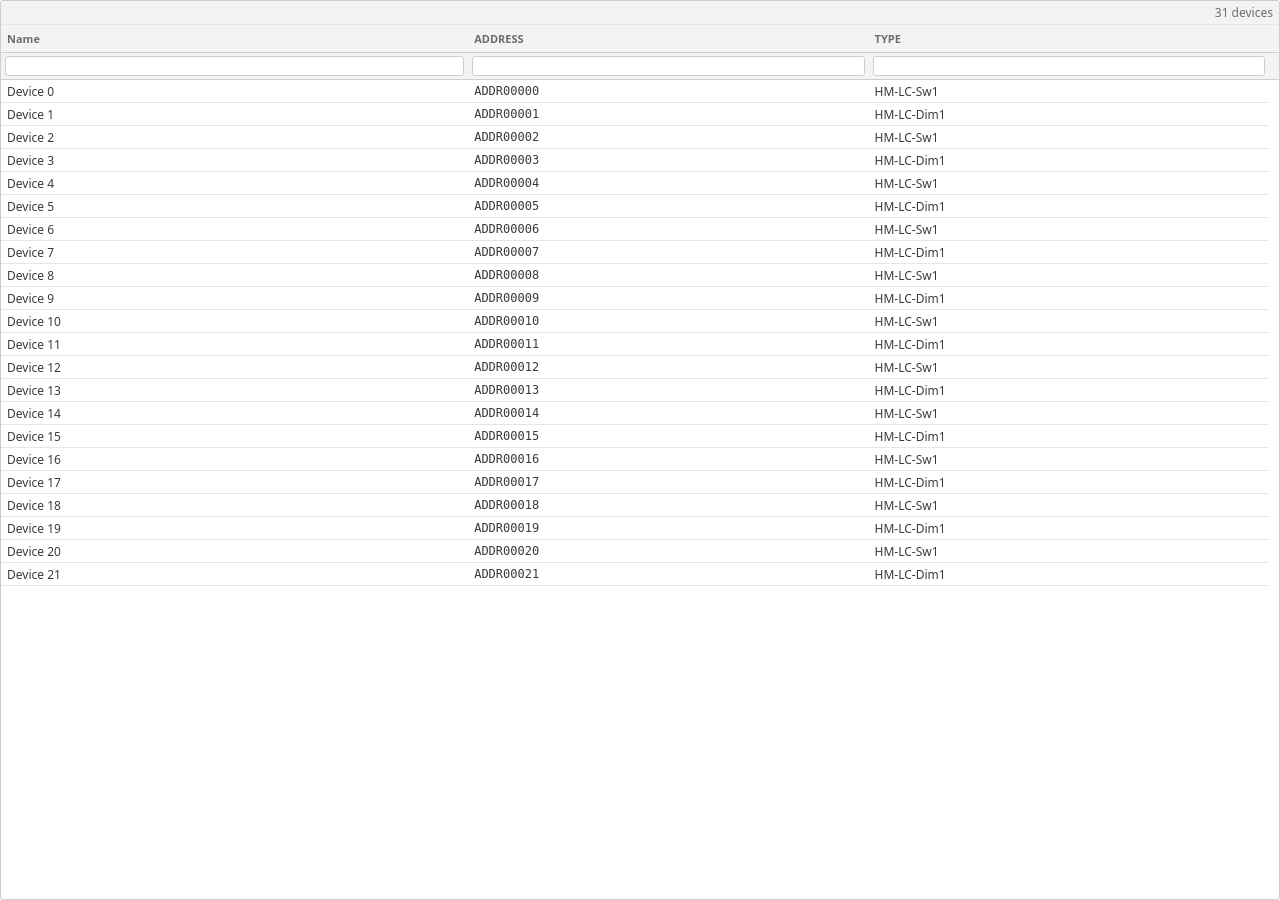
Scenario: filters and the scope (BUGS.md B-1) › says how many rows the filter leaves and offers to clear it when it leaves none
This screenshot has width=1280, height=900.
Expected: the text with test id "grid-count" reads "31 devices", x1=1215 y1=4 x2=1273 y2=21
Type "ADDR0000" into the search field named "Filter: ADDRESS" at (668, 66), box x1=472 y1=56 x2=865 y2=76
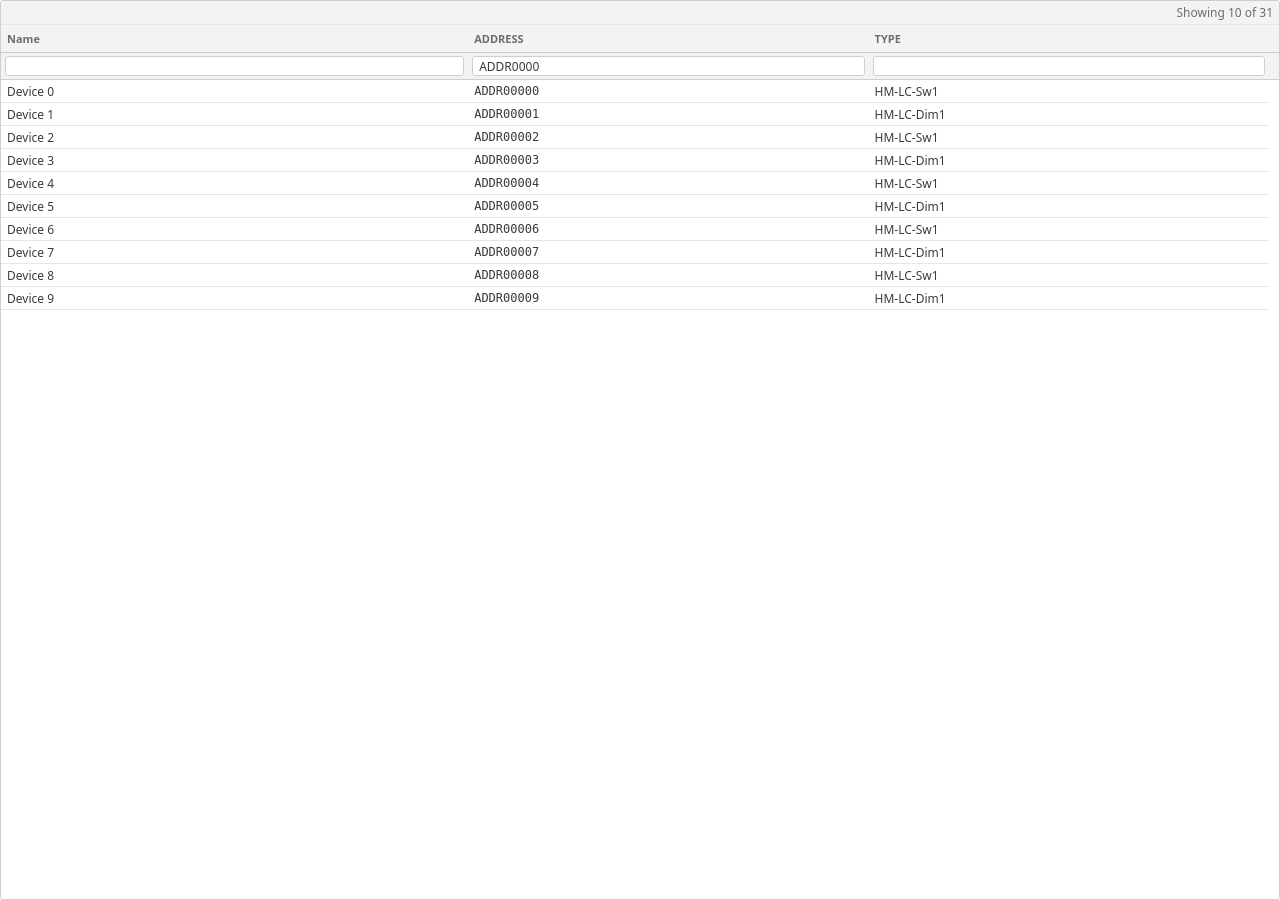
Result: the text with test id "grid-count" reads "Showing 10 of 31" at x1=1176 y1=4 x2=1273 y2=21
Replace the text in the search field named "Filter: ADDRESS" with "LEQ" at (668, 66), box x1=472 y1=56 x2=865 y2=76
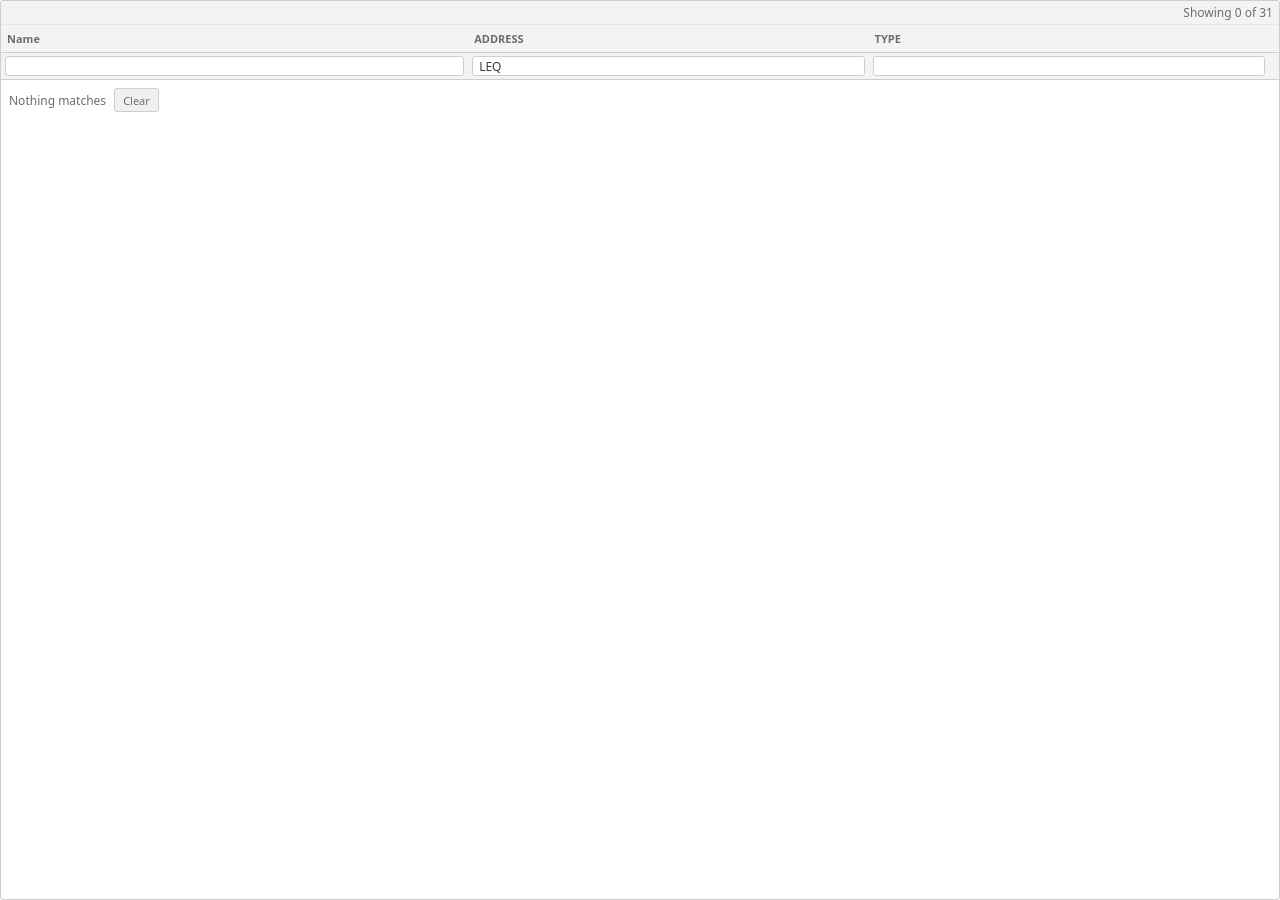
Result: the text with test id "grid-count" reads "Showing 0 of 31" at x1=1183 y1=4 x2=1273 y2=21
Result: the text "Nothing matches" is shown at x1=9 y1=92 x2=106 y2=108
Click the button with test id "grid-clear-filter" at (136, 100), box x1=114 y1=88 x2=159 y2=112
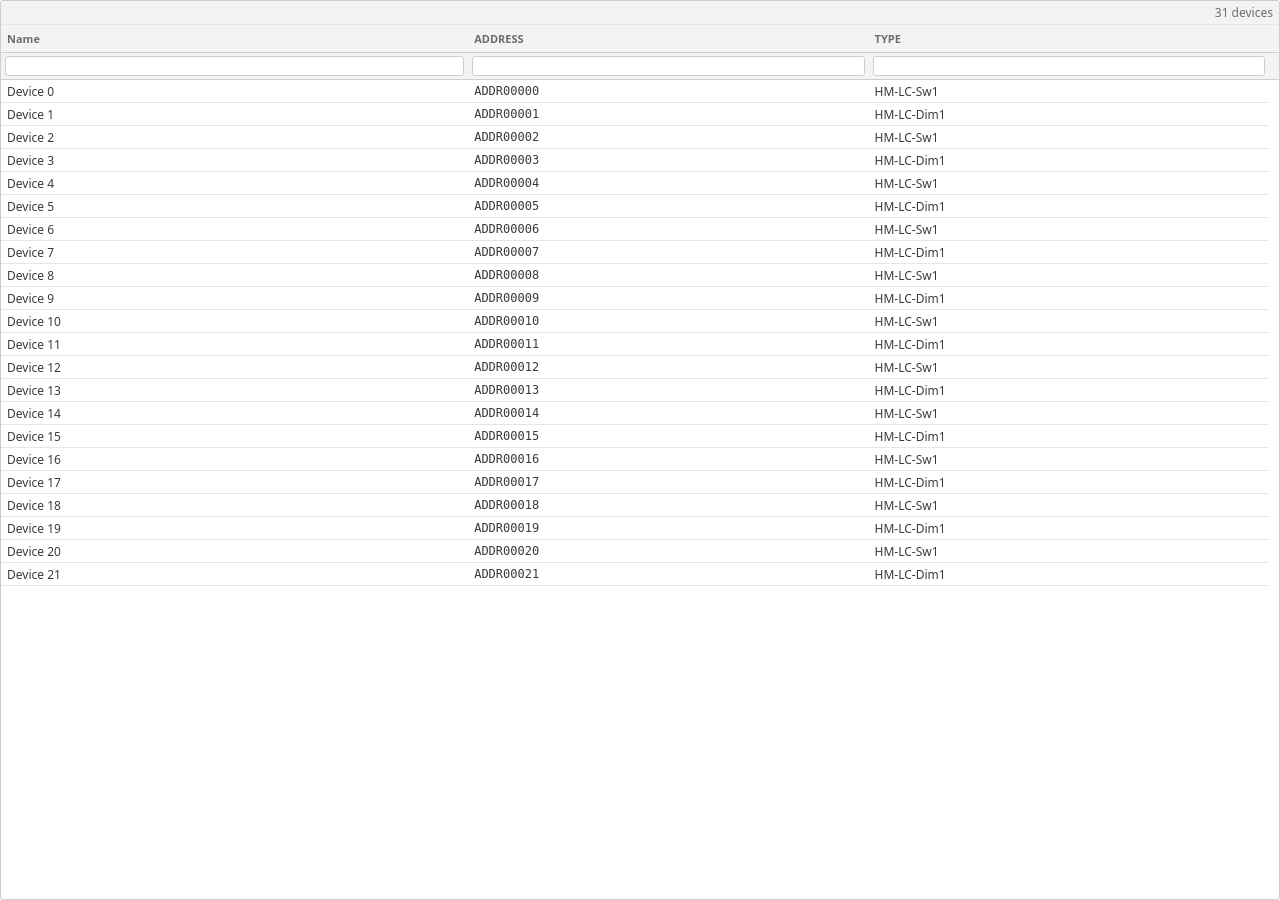
Result: the text with test id "grid-count" reads "31 devices" at x1=1215 y1=4 x2=1273 y2=21
Result: the search field named "Filter: ADDRESS" is empty at x1=472 y1=56 x2=865 y2=76
